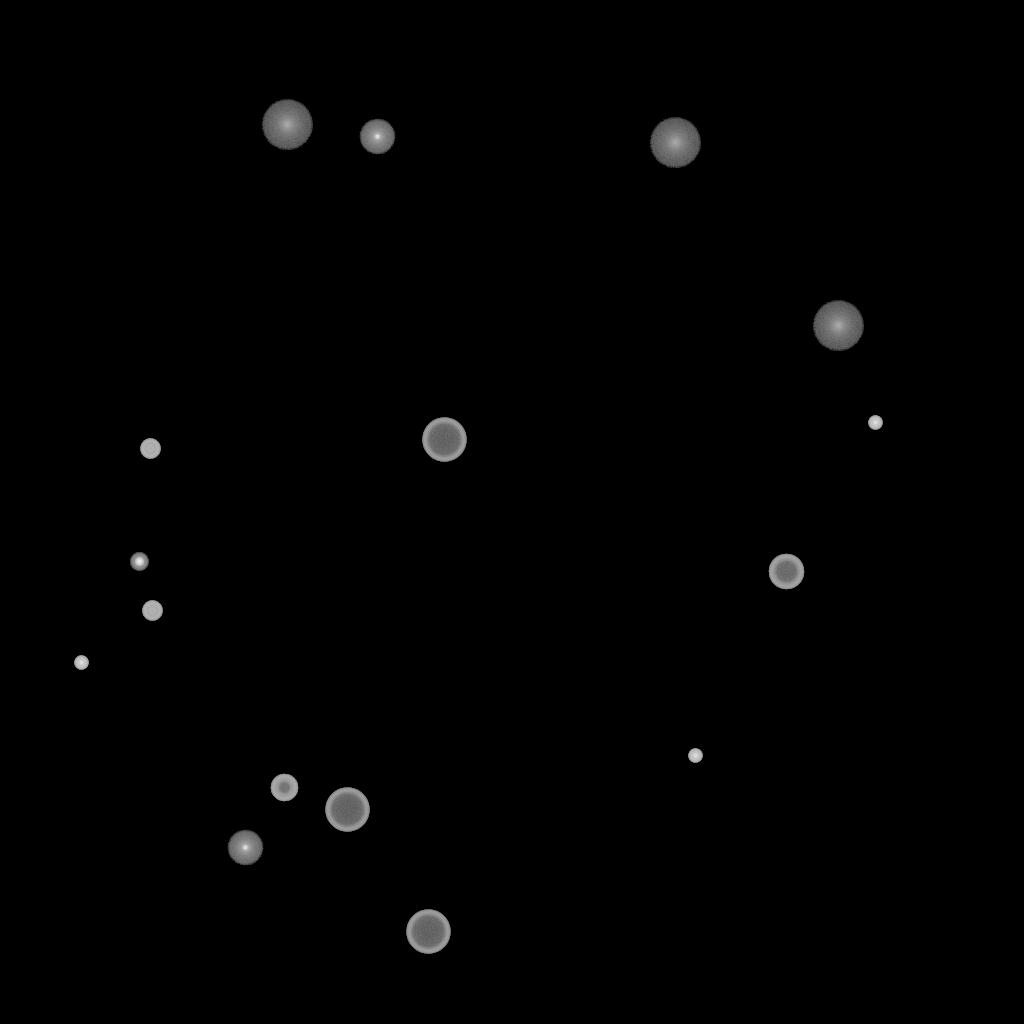depth:-20: (130, 553, 148, 571)
depth:-30: (868, 416, 882, 430), (688, 749, 702, 763), (74, 656, 88, 670)
depth:-40: (140, 439, 160, 459), (142, 601, 162, 621)
depth:-50: (270, 774, 298, 802)
depth:-60: (768, 554, 804, 590)
depth:-70: (325, 788, 369, 832), (422, 418, 466, 462), (406, 910, 450, 954)
depth:0: (359, 119, 395, 155), (227, 830, 263, 866)
depth:20: (812, 301, 864, 351), (261, 100, 313, 150), (649, 118, 701, 168)
